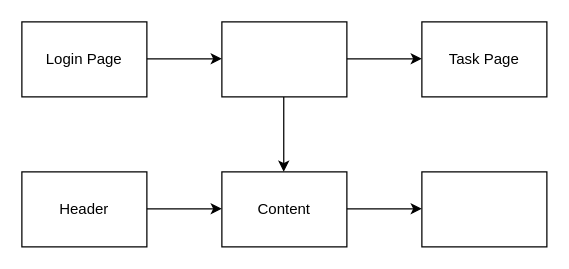
This 569x269 diagram has some shape labels left out. Each missing label, with the centre of its shape:
Footer: the point at 484,209
Home Page: the point at 284,59
